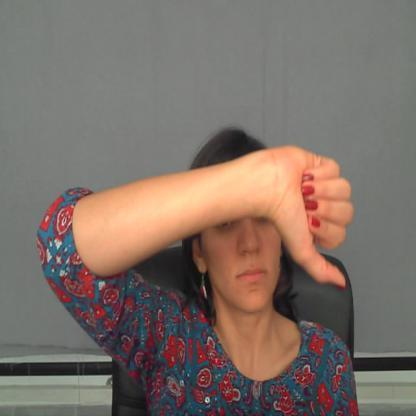thumbs-down: (267, 134, 355, 290)
